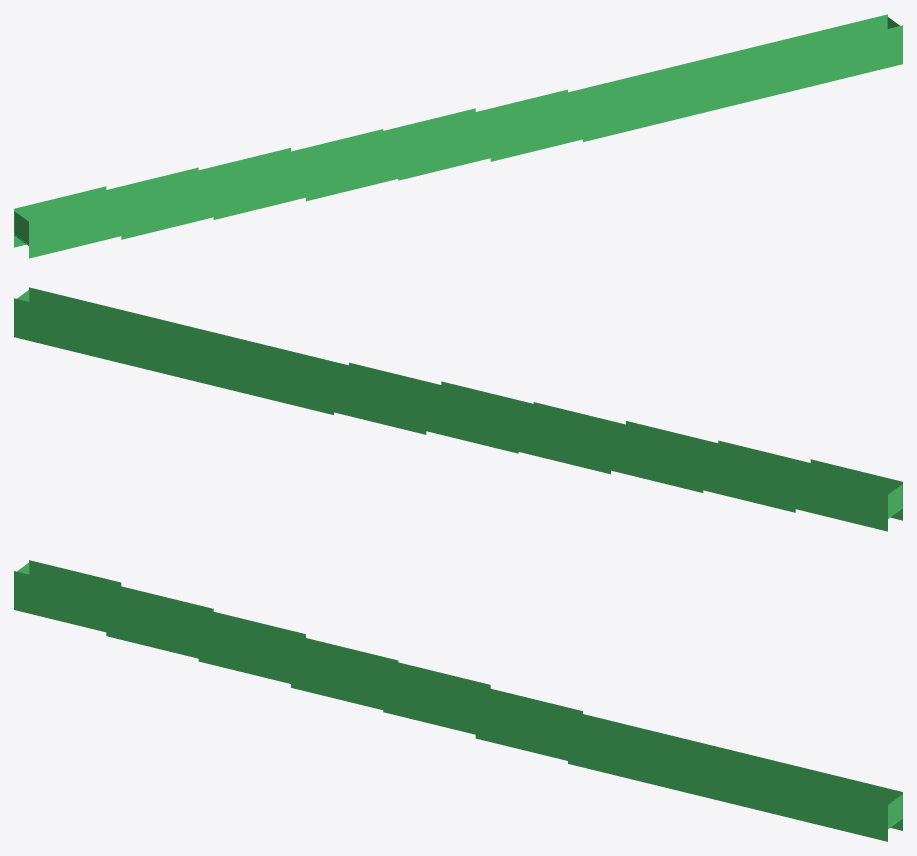
Rendered from EggmanSecretaColisao.glb.
The picture shows the model from 3 angles, top to bottom: view 1: azimuth 30°, elevation 25°; view 2: azimuth 150°, elevation 25°; view 3: azimuth 330°, elevation 25°; orthographic projection.
Visible parts, largest first — view 1: Eggman_Sector_0, Eggman_Sector_7, Eggman_Sector_8, Eggman_Sector_4, Eggman_Sector_5, Eggman_Sector_1, Eggman_Sector_3, Eggman_Sector_9, Eggman_Sector_2, Eggman_Sector_6; view 2: Eggman_Sector_0, Eggman_Sector_7, Eggman_Sector_8, Eggman_Sector_4, Eggman_Sector_5, Eggman_Sector_1, Eggman_Sector_3, Eggman_Sector_9, Eggman_Sector_2, Eggman_Sector_6; view 3: Eggman_Sector_0, Eggman_Sector_5, Eggman_Sector_3, Eggman_Sector_1, Eggman_Sector_4, Eggman_Sector_7, Eggman_Sector_8, Eggman_Sector_9, Eggman_Sector_2, Eggman_Sector_6.
Part boxes in pixels (x1,y1,x2,y2): Eggman_Sector_0: (14,186,121,258); Eggman_Sector_7: (614,59,721,130); Eggman_Sector_8: (706,36,813,108); Eggman_Sector_4: (360,114,467,184); Eggman_Sector_5: (452,95,559,163); Eggman_Sector_1: (106,167,213,239); Eggman_Sector_3: (268,134,375,202); Eggman_Sector_9: (798,14,902,85); Eggman_Sector_2: (198,153,282,219); Eggman_Sector_6: (545,81,628,144); Eggman_Sector_0: (795,459,902,531); Eggman_Sector_7: (195,332,302,403); Eggman_Sector_8: (103,309,210,381); Eggman_Sector_4: (449,387,556,457); Eggman_Sector_5: (357,368,464,436); Eggman_Sector_1: (703,440,810,512); Eggman_Sector_3: (541,407,648,475); Eggman_Sector_9: (14,287,118,358); Eggman_Sector_2: (634,426,718,492); Eggman_Sector_6: (288,354,371,417); Eggman_Sector_0: (14,560,121,632); Eggman_Sector_5: (452,679,559,755); Eggman_Sector_3: (268,628,375,704); Eggman_Sector_1: (106,586,213,658); Eggman_Sector_4: (360,655,467,728); Eggman_Sector_7: (614,725,721,797); Eggman_Sector_8: (706,748,813,819); Eggman_Sector_9: (798,770,902,841); Eggman_Sector_2: (198,612,282,678); Eggman_Sector_6: (545,705,628,774).
Bounding box in the file's own units: 258 × 16.23 × 7.65.
